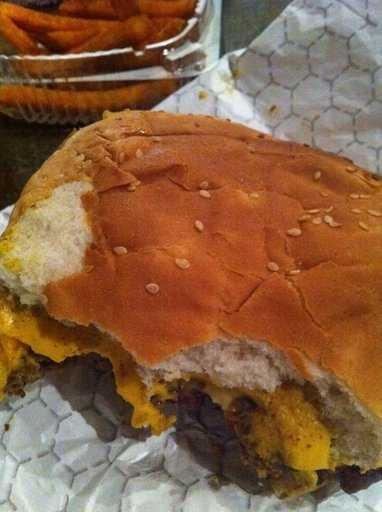hamburger: (8, 98, 382, 458)
